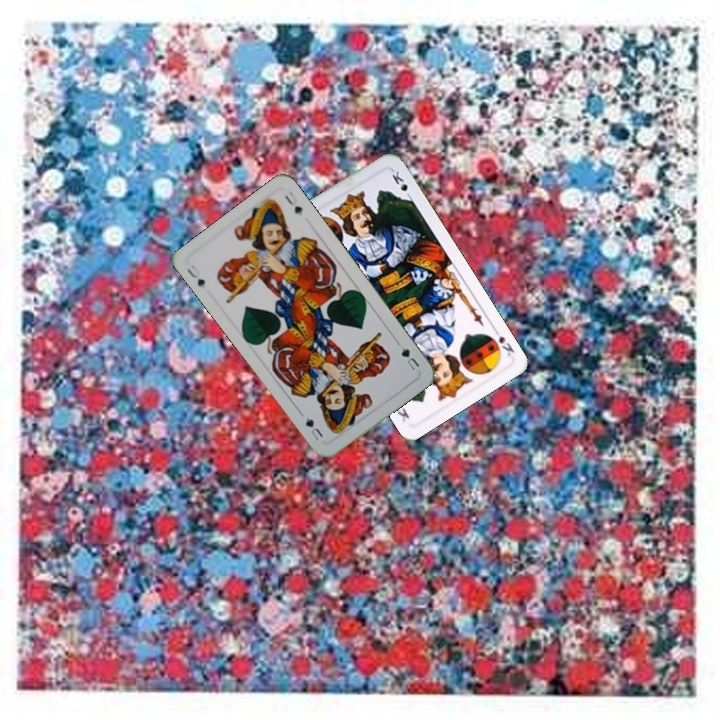GU: (397, 343, 422, 373), (182, 261, 207, 290)
SK: (489, 324, 517, 359)
